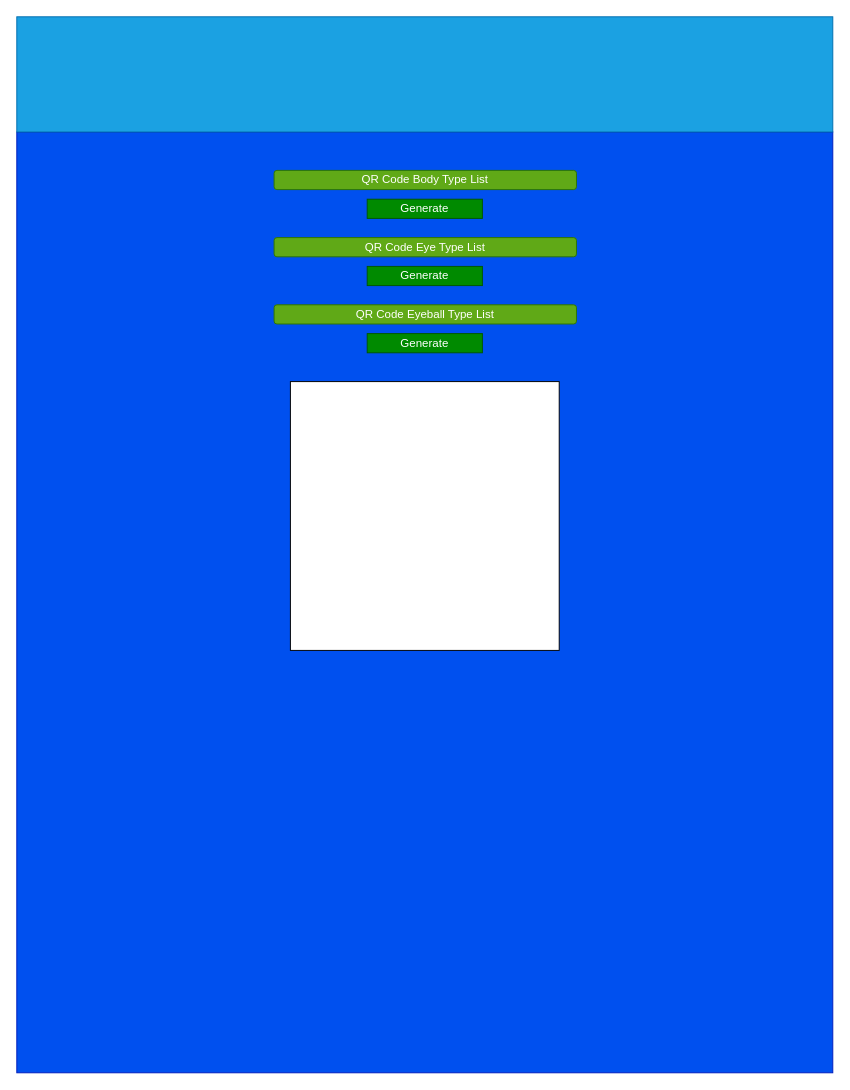
This 850x1090 diagram has some shape labels left out. The centre of each missing label's shape, as x and y in pixels:
QR Code: point (424, 515)
QR Code Designer: point (424, 74)
